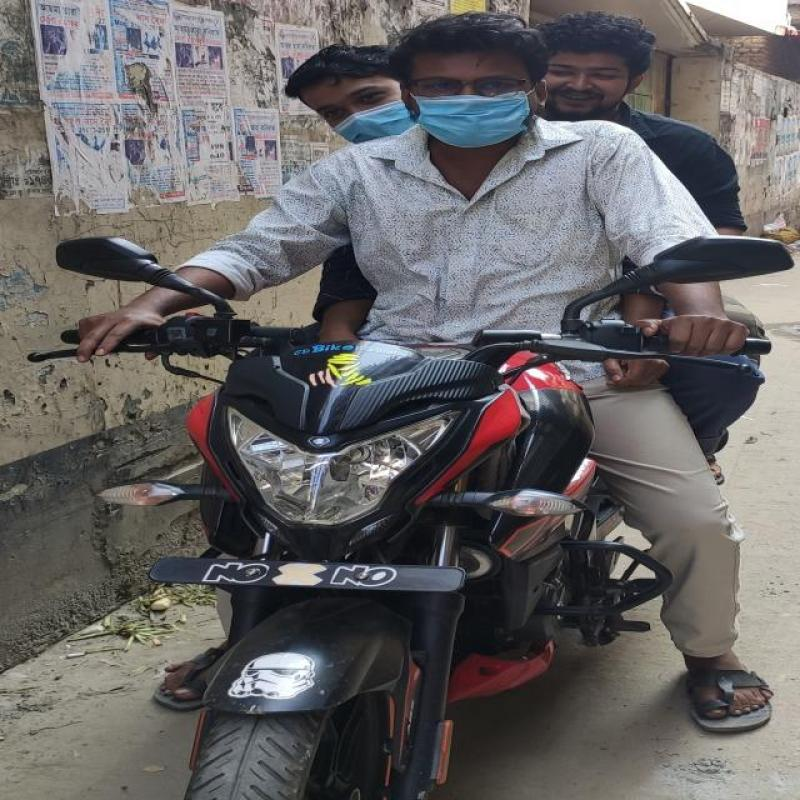nohelmet: (394, 31, 557, 152)
